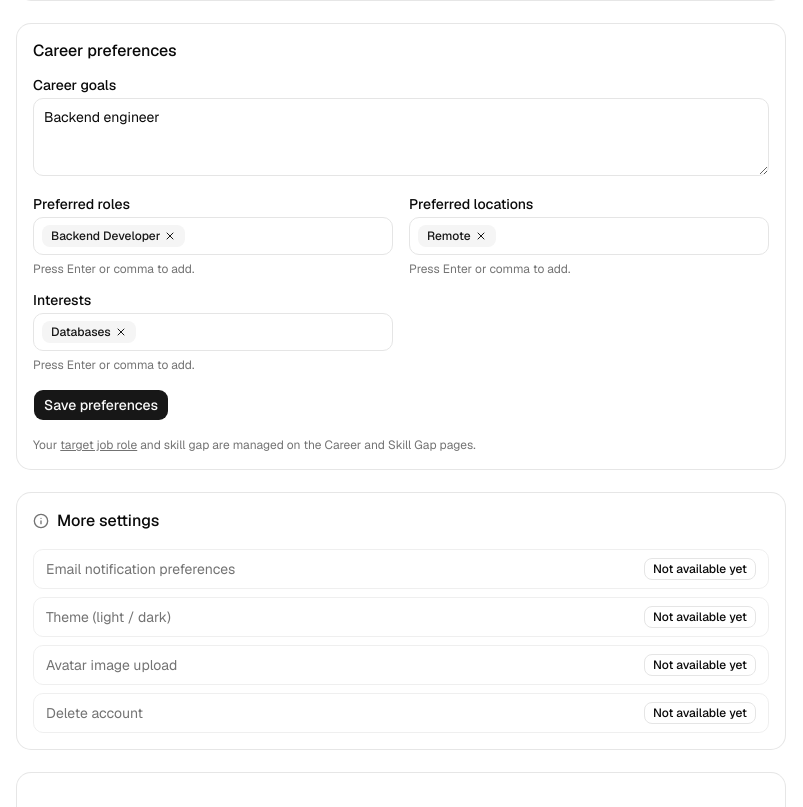
Test case: SettingsView › saves career preferences through upsertStudentProfile with the full field set
This screenshot has width=803, height=807.
(page scrolled)
Click the button "Save preferences".
click(101, 405)  # box top-left (33, 389), bottom-right (169, 421)
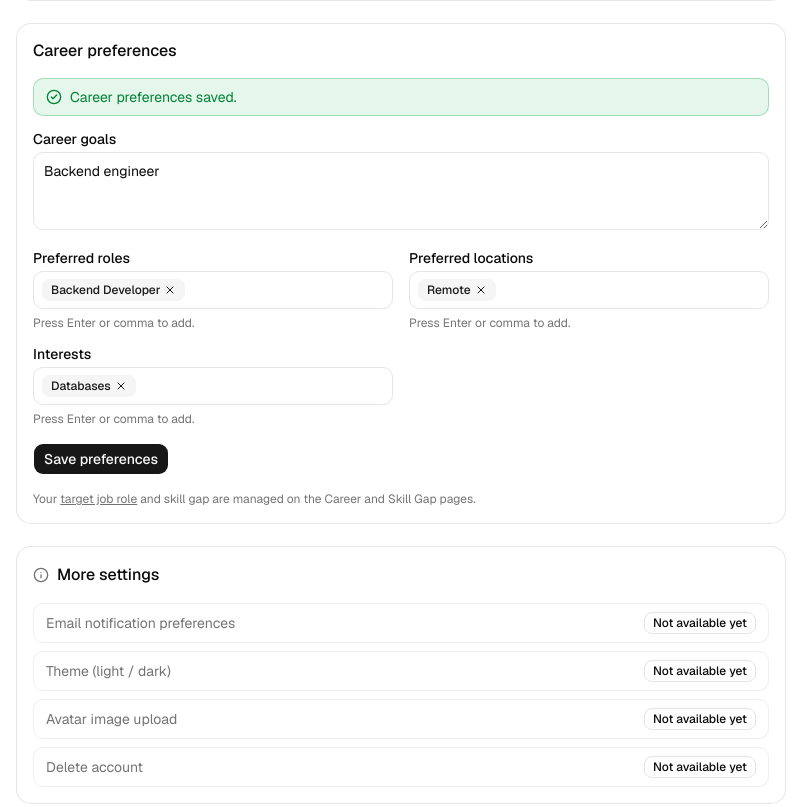
Check: the text "Career preferences saved." is shown, box top-left (70, 87), bottom-right (237, 107)
